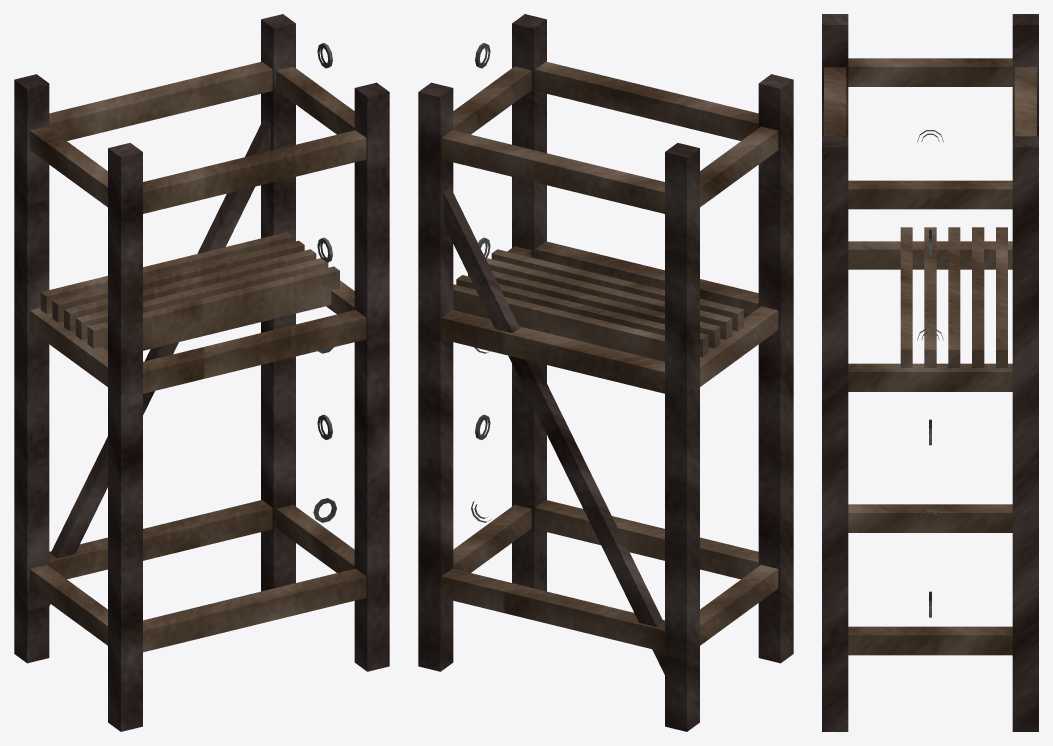
The model's file is 0433_scaffolding_08.glb.
3 views of the same model, side by side, from view 1: azimuth 30°, elevation 25°; view 2: azimuth 150°, elevation 25°; view 3: azimuth 270°, elevation 25° (orthographic).
Visible parts, largest first — view 1: wood_dark, wood, iron; view 2: wood_dark, wood, iron; view 3: wood, wood_dark, iron.
Boxes of the visible parts, bbox=[...] form: wood_dark: bbox=[14, 14, 389, 731]; wood: bbox=[29, 61, 366, 652]; iron: bbox=[313, 43, 336, 522]; wood_dark: bbox=[418, 14, 793, 731]; wood: bbox=[441, 61, 778, 652]; iron: bbox=[471, 43, 491, 522]; wood: bbox=[824, 58, 1036, 655]; wood_dark: bbox=[822, 14, 1038, 731]; iron: bbox=[917, 130, 943, 617].
Size of the model in its own units: 1.57 by 3.28 by 1.08.
3 materials, 3 textured.
